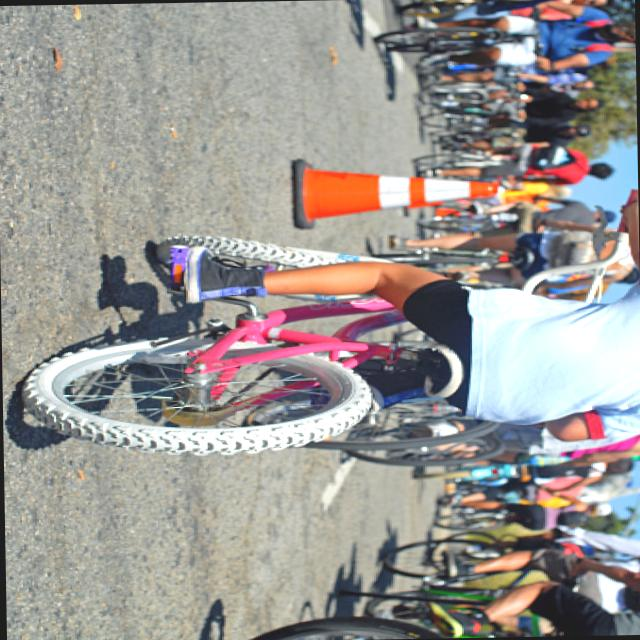cone: (283, 153, 507, 234)
